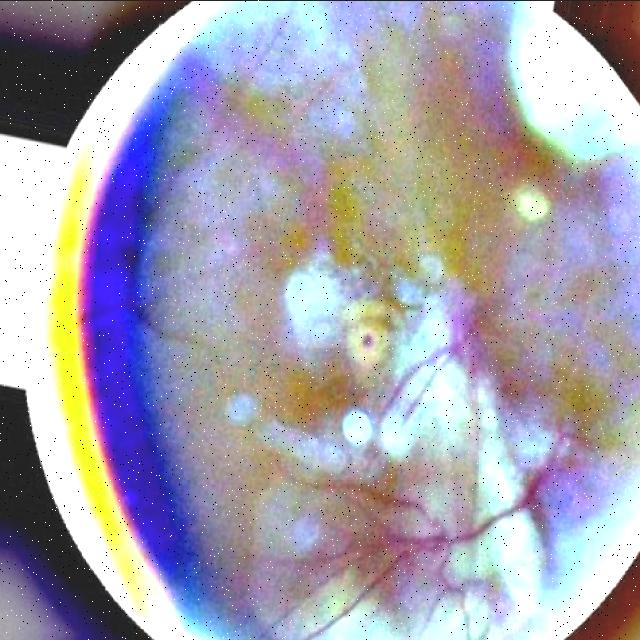Nerves: (294, 465, 550, 640), (378, 342, 463, 430)
